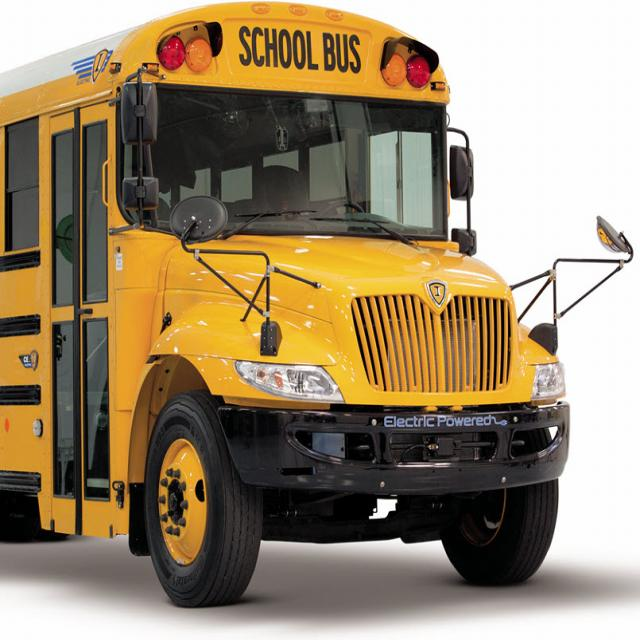bus: (0, 0, 604, 637)
